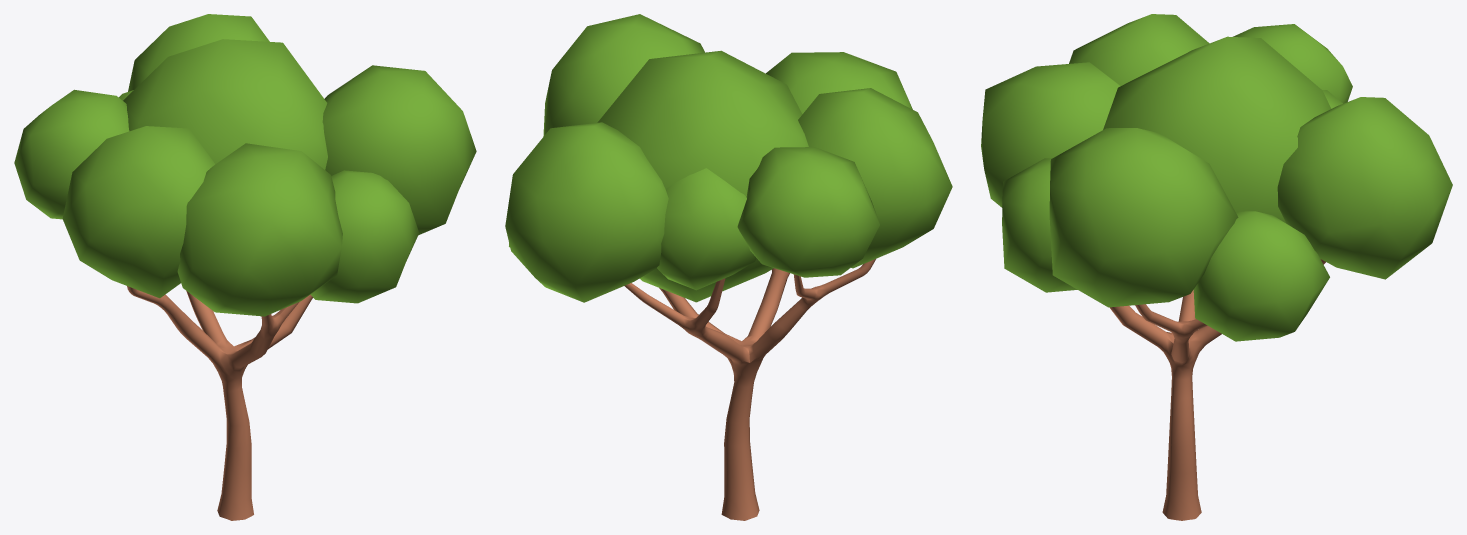
File: Tree01.fbx
3 renders of one model, left to right at view 1: azimuth 30°, elevation 25°; view 2: azimuth 150°, elevation 25°; view 3: azimuth 270°, elevation 25°, orthographic. The views are drawn at different scales.
Visible parts, largest first — view 1: Tree01; view 2: Tree01; view 3: Tree01.
Boxes of the visible parts, bbox=[...] form: Tree01: bbox=[14, 14, 476, 520]; Tree01: bbox=[505, 14, 952, 520]; Tree01: bbox=[981, 14, 1452, 520].
Bounding box in the file's own units: 281 × 323 × 286.
